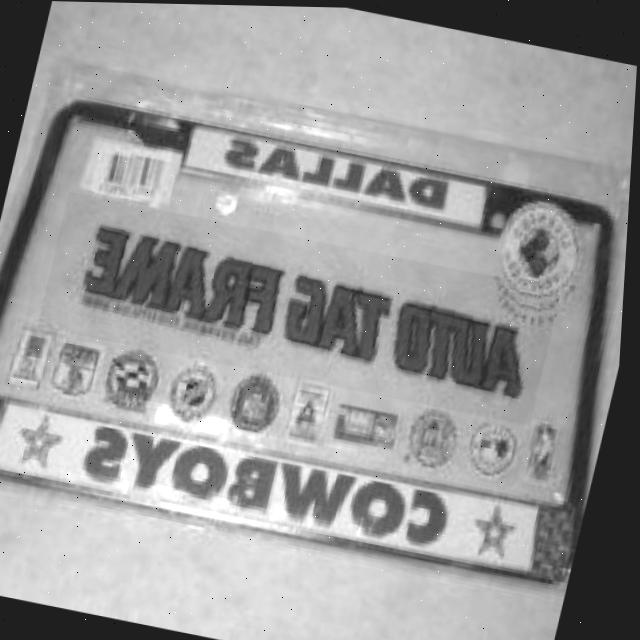LicensePlate: (36, 190, 569, 424)
